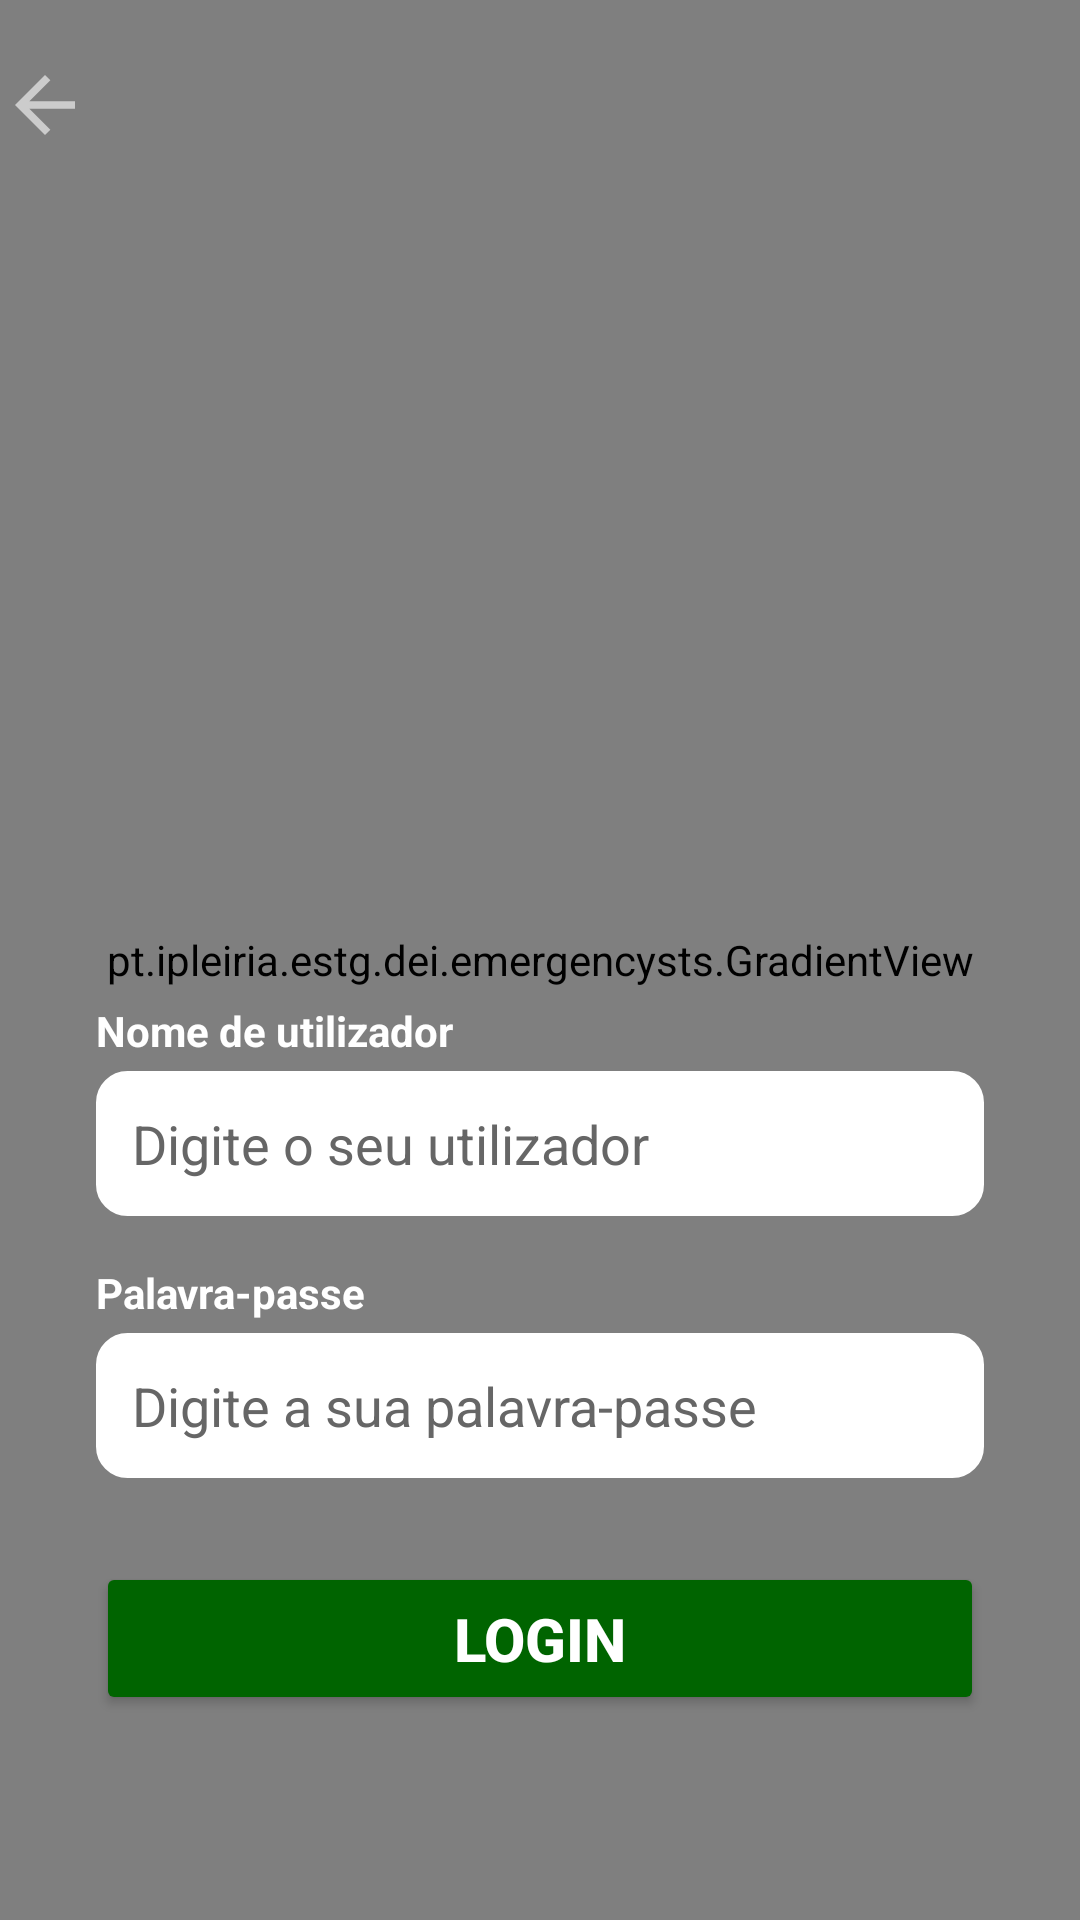

Where to tap for icons on this 1080*1920 app screen, as (x=x, y=y):
voltaratras: (x=45, y=105)
